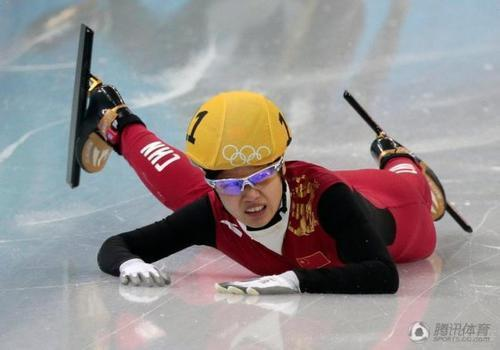Fall-Detected: (55, 65, 455, 309)
